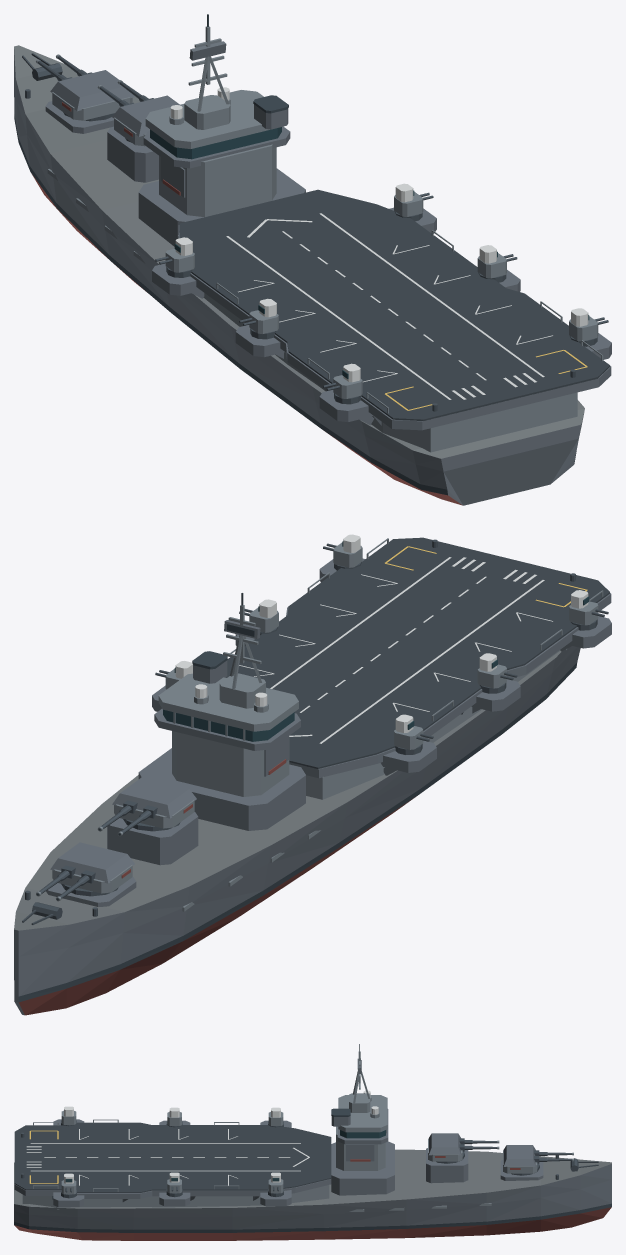
The model's file is EnemyHybridBoss.fbx.
3 renders of one model, top to bottom at view 1: azimuth 30°, elevation 25°; view 2: azimuth 150°, elevation 25°; view 3: azimuth 270°, elevation 25°, orthographic. The views are drawn at different scales.
Visible parts, largest first — view 1: FlightDeck_Mesh, Hull_Mesh, BridgeAssembly_Mesh, MainGun_01_Mesh, MainGun_02_Mesh, AA_Port_01_Mesh, AA_Port_02_Mesh, AA_Port_03_Mesh, AA_Starboard_01_Mesh, AA_Starboard_02_Mesh, AA_Starboard_03_Mesh; view 2: FlightDeck_Mesh, Hull_Mesh, BridgeAssembly_Mesh, MainGun_01_Mesh, MainGun_02_Mesh, AA_Port_02_Mesh, AA_Port_01_Mesh, AA_Port_03_Mesh, AA_Starboard_03_Mesh, AA_Starboard_02_Mesh, MainGun_Elevation_01_Mesh, MainGun_Elevation_02_Mesh; view 3: Hull_Mesh, FlightDeck_Mesh, BridgeAssembly_Mesh, MainGun_02_Mesh, MainGun_01_Mesh, MainGun_Elevation_02_Mesh, MainGun_Elevation_01_Mesh, AA_Starboard_03_Mesh, AA_Starboard_01_Mesh, AA_Starboard_02_Mesh.
Part boxes in pixels (x1,y1,x2,y2): FlightDeck_Mesh: [152, 189, 611, 452]; Hull_Mesh: [14, 45, 584, 505]; BridgeAssembly_Mesh: [138, 14, 305, 246]; MainGun_01_Mesh: [50, 70, 134, 120]; MainGun_02_Mesh: [112, 95, 179, 146]; AA_Port_01_Mesh: [165, 237, 194, 272]; AA_Port_02_Mesh: [249, 298, 278, 333]; AA_Port_03_Mesh: [333, 363, 362, 398]; AA_Starboard_01_Mesh: [394, 183, 423, 216]; AA_Starboard_02_Mesh: [477, 245, 506, 278]; AA_Starboard_03_Mesh: [569, 308, 598, 341]; FlightDeck_Mesh: [152, 537, 611, 799]; Hull_Mesh: [14, 539, 580, 1015]; BridgeAssembly_Mesh: [138, 593, 305, 830]; MainGun_01_Mesh: [50, 842, 134, 893]; MainGun_02_Mesh: [112, 777, 196, 828]; AA_Port_02_Mesh: [477, 653, 506, 688]; AA_Port_01_Mesh: [394, 714, 423, 749]; AA_Port_03_Mesh: [569, 590, 598, 625]; AA_Starboard_03_Mesh: [333, 534, 362, 567]; AA_Starboard_02_Mesh: [249, 599, 278, 632]; MainGun_Elevation_01_Mesh: [36, 865, 95, 901]; MainGun_Elevation_02_Mesh: [97, 800, 157, 836]; Hull_Mesh: [14, 1132, 611, 1240]; FlightDeck_Mesh: [14, 1119, 331, 1209]; BridgeAssembly_Mesh: [331, 1044, 394, 1195]; MainGun_02_Mesh: [428, 1133, 462, 1161]; MainGun_01_Mesh: [503, 1145, 537, 1173]; MainGun_Elevation_02_Mesh: [459, 1138, 499, 1151]; MainGun_Elevation_01_Mesh: [534, 1150, 573, 1163]; AA_Starboard_03_Mesh: [61, 1173, 76, 1194]; AA_Starboard_01_Mesh: [268, 1172, 283, 1193]; AA_Starboard_02_Mesh: [167, 1172, 181, 1193].
Bounding box in the file's own units: 524 × 512 × 1600.
